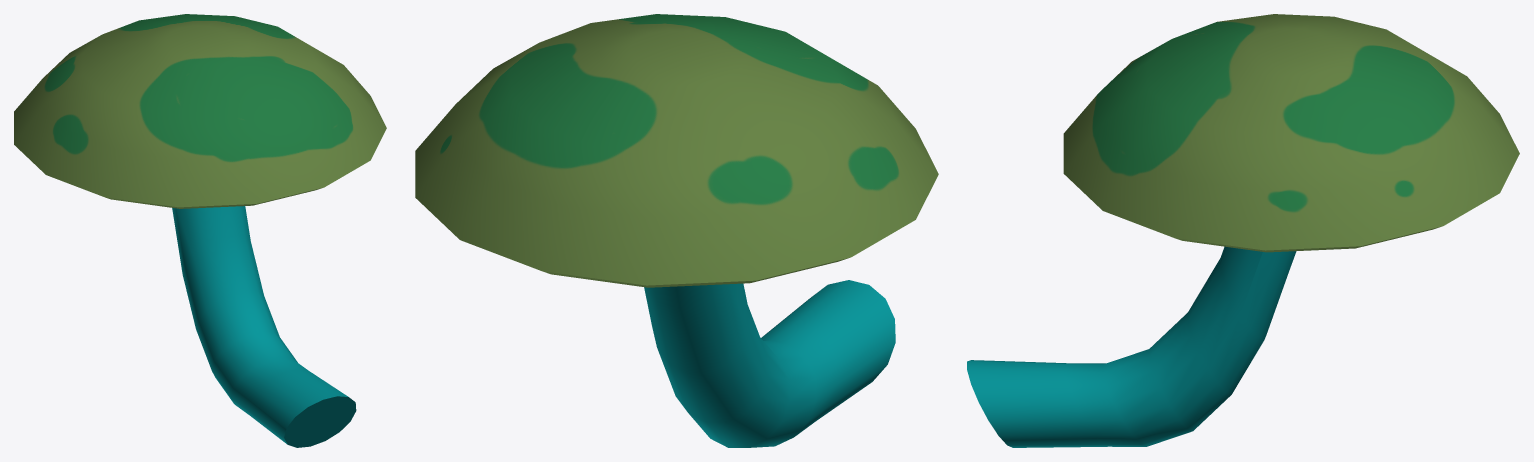
The model's file is hongo 3.1 nuevo.fbx.
3 views of the same model, side by side, from view 1: azimuth 30°, elevation 25°; view 2: azimuth 150°, elevation 25°; view 3: azimuth 270°, elevation 25° (orthographic). The views are drawn at different scales.
Visible parts, largest first — view 1: Circle.001, Circle; view 2: Circle.001, Circle; view 3: Circle.001, Circle.
Boxes of the visible parts, x1=… form: Circle.001: x1=14, y1=14, x2=386, y2=208; Circle: x1=172, y1=206, x2=356, y2=447; Circle.001: x1=415, y1=14, x2=938, y2=287; Circle: x1=644, y1=280, x2=895, y2=447; Circle.001: x1=1063, y1=14, x2=1519, y2=252; Circle: x1=967, y1=246, x2=1296, y2=447.
Size of the model in its own units: 687 by 658 by 828.
